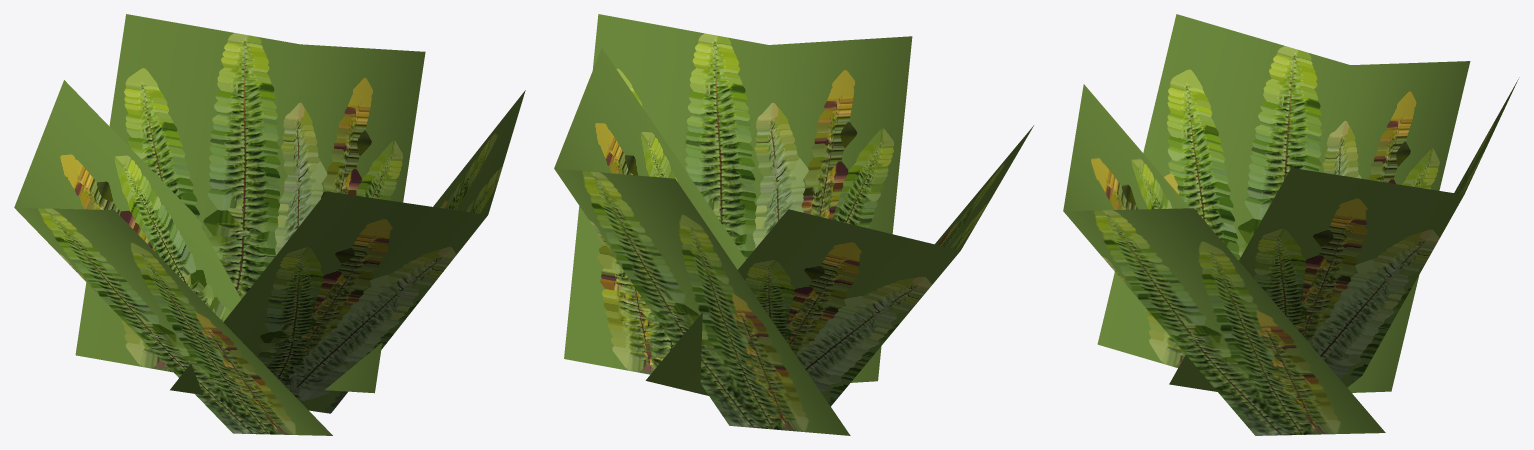
The model's file is FernMesh.fbx.
3 renders of one model, left to right at view 1: azimuth 30°, elevation 25°; view 2: azimuth 150°, elevation 25°; view 3: azimuth 270°, elevation 25°, orthographic.
Visible parts, largest first — view 1: FernMesh; view 2: FernMesh; view 3: FernMesh.
Part boxes in pixels (x1,y1,x2,y2): FernMesh: (14,14,525,435); FernMesh: (554,14,1033,435); FernMesh: (1063,14,1519,435).
Bounding box in the file's own units: 2.05 × 1.47 × 1.86.
